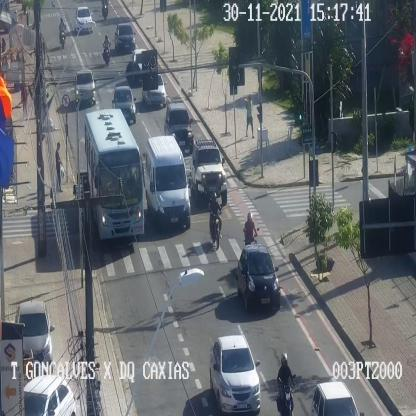bus: (84, 108, 144, 240)
car: (145, 135, 190, 228), (210, 335, 260, 413), (237, 246, 280, 309), (16, 301, 52, 372), (190, 141, 227, 203), (23, 374, 76, 416), (311, 382, 359, 416), (164, 102, 193, 152), (142, 70, 165, 107), (112, 85, 135, 122), (74, 69, 96, 104), (132, 48, 152, 81), (114, 22, 136, 51), (74, 6, 92, 32)
motorbike: (276, 352, 296, 416), (208, 191, 222, 248), (244, 212, 258, 246), (102, 34, 111, 66), (58, 17, 66, 49), (102, 0, 110, 20)
person: (55, 142, 63, 192), (245, 94, 254, 138), (21, 83, 28, 120)
